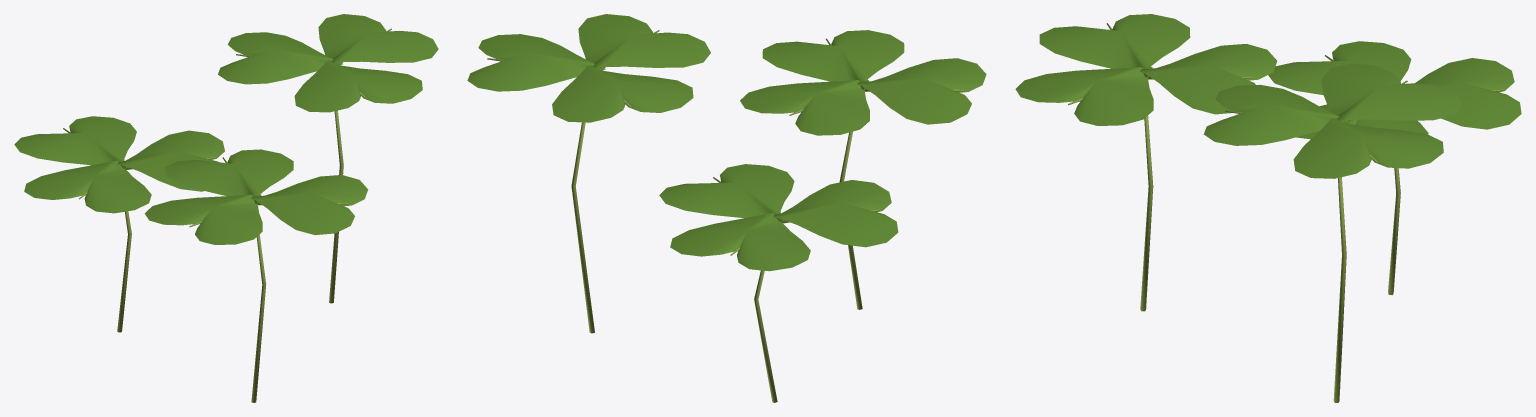
The model's file is clover-patch.glb.
3 renders of one model, left to right at view 1: azimuth 30°, elevation 25°; view 2: azimuth 150°, elevation 25°; view 3: azimuth 270°, elevation 25°, orthographic. The views are drawn at different scales.
Visible parts, largest first — view 1: RM_Clover_Leaves, RM_Clover_Stems; view 2: RM_Clover_Leaves, RM_Clover_Stems; view 3: RM_Clover_Leaves, RM_Clover_Stems.
Boxes of the visible parts, box(x1,y1,x2,y2) form: RM_Clover_Leaves: box(14, 14, 438, 244); RM_Clover_Stems: box(63, 28, 391, 402); RM_Clover_Leaves: box(467, 14, 986, 271); RM_Clover_Stems: box(487, 30, 964, 402); RM_Clover_Leaves: box(1015, 14, 1521, 178); RM_Clover_Stems: box(1068, 23, 1503, 402).
Bounding box in the file's own units: 0.3392 × 0.2093 × 0.3272.
